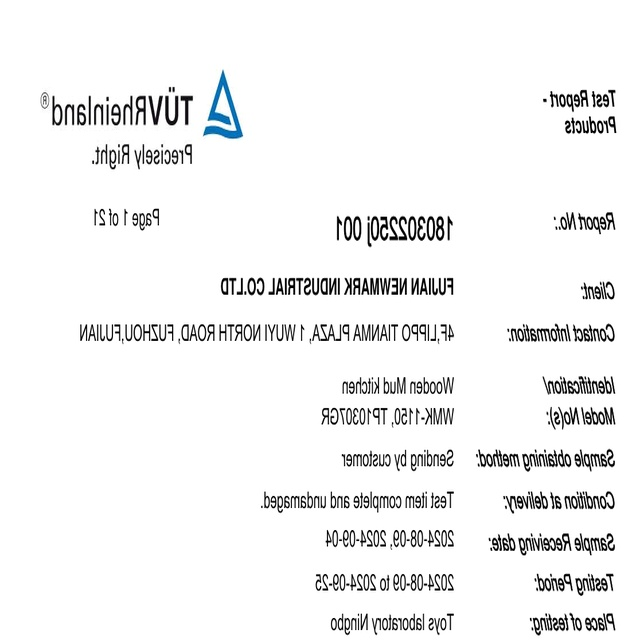tuv_rheinland: (36, 67, 248, 145)
